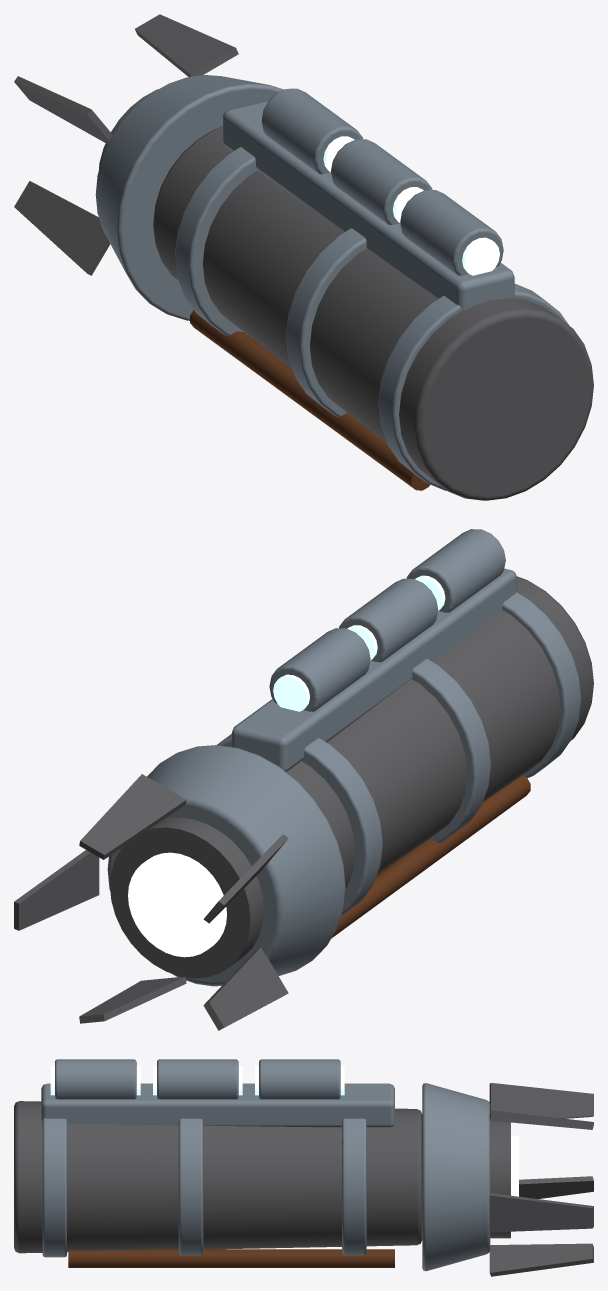
File: glove.glb
3 renders of one model, top to bottom at view 1: azimuth 30°, elevation 25°; view 2: azimuth 150°, elevation 25°; view 3: azimuth 270°, elevation 25°, orthographic. The views are drawn at different scales.
Parts seen in each view (by area): view 1: bracer, collar, spine, band.002, cable, band.001, band, cellcase0, cellcase2, cellcase1, petal3, petal1 (+2 smaller); view 2: bracer, collar, spine, throat, lens, band.002, band.001, cellcase2, cable, cellcase1, cellcase0, band (+6 smaller); view 3: bracer, collar, spine, cable.001, band.001, band, band.002, cellcase0, cellcase1, cellcase2, petal0, petal2 (+5 smaller).
Boxes of the visible parts, box(x1,y1,x2,y2) form: bracer: box(153, 126, 593, 500); collar: box(95, 75, 283, 320); spine: box(223, 100, 514, 310); band.002: box(175, 147, 257, 338); cable: box(190, 310, 429, 490); band.001: box(286, 228, 366, 416); band: box(378, 283, 568, 490); cellcase0: box(400, 190, 503, 275); cellcase2: box(261, 88, 362, 174); cellcase1: box(331, 139, 432, 224); petal3: box(14, 181, 110, 275); petal1: box(135, 14, 238, 76); bracer: box(286, 576, 593, 888); collar: box(107, 745, 345, 986); spine: box(231, 568, 516, 771); throat: box(110, 817, 263, 978); lens: box(128, 852, 226, 957); band.002: box(217, 734, 382, 916); band.001: box(411, 659, 490, 842); cellcase2: box(269, 628, 370, 711); cable: box(331, 775, 530, 938); cellcase1: box(339, 578, 438, 662); cellcase0: box(406, 529, 505, 612); band: box(502, 592, 581, 778); bracer: box(14, 1101, 422, 1253); collar: box(422, 1083, 490, 1271); spine: box(41, 1083, 394, 1127); cable.001: box(68, 1249, 394, 1267); band.001: box(178, 1118, 203, 1255); band: box(42, 1118, 66, 1257); band.002: box(342, 1118, 366, 1255); cellcase0: box(55, 1059, 136, 1099); cellcase1: box(157, 1059, 238, 1099); cellcase2: box(259, 1059, 340, 1099); petal0: box(489, 1193, 593, 1232); petal2: box(489, 1083, 593, 1118).
Bounding box in the file's own units: 0.1409 × 0.1632 × 0.4261.
